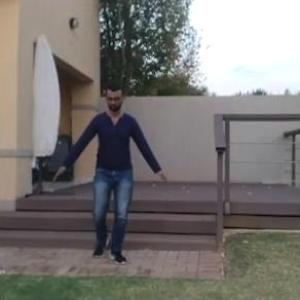land: (40, 66, 167, 286)
